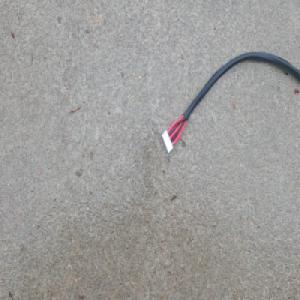Wire: (160, 50, 300, 154)
